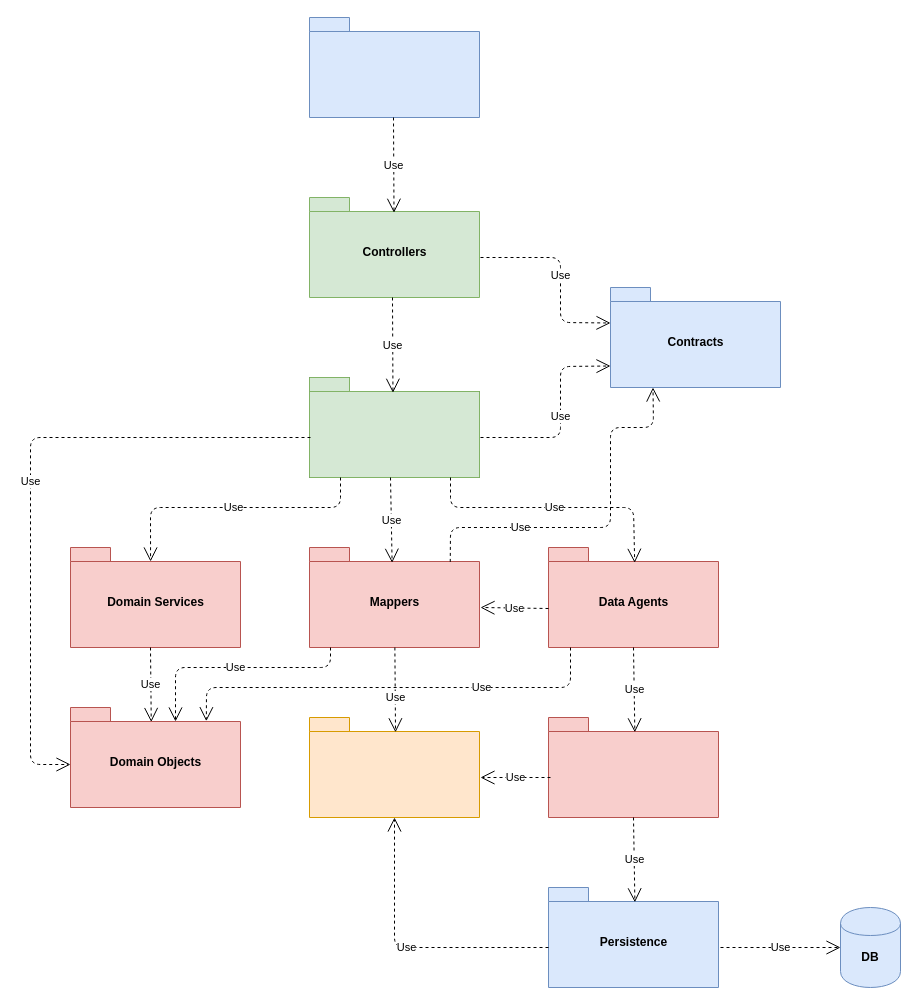
Image size: 918x1005. Some labels were removed from this diagram. Here are the shapes that lost their labels. From the top down, the centre of each, then its label:
the point at 394,67: UI
the point at 394,427: Services
the point at 394,767: Entities
the point at 633,767: Repositories
